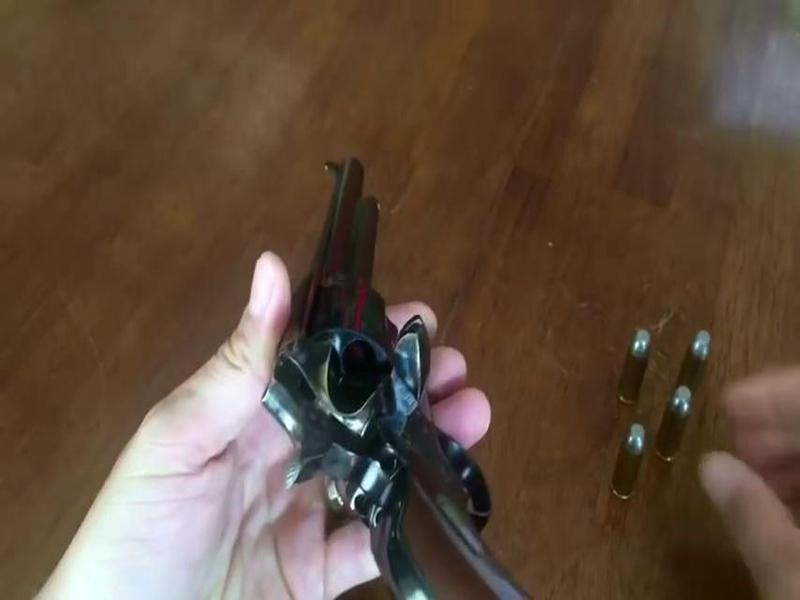Revolver: (232, 126, 516, 596)
